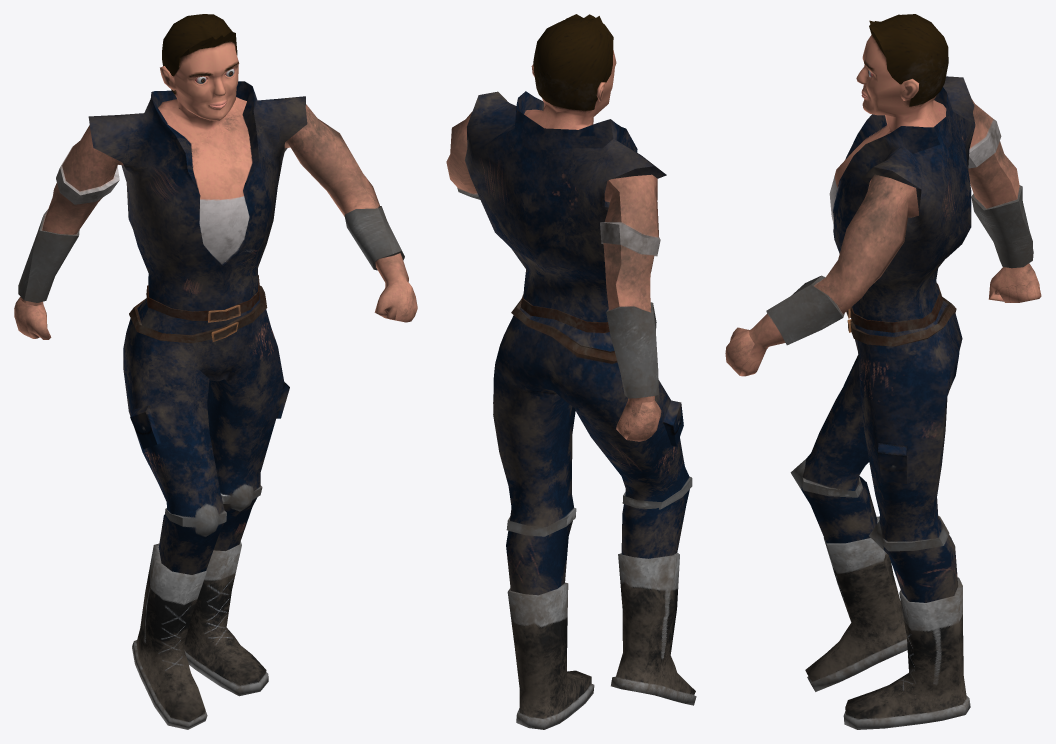
File: Anim_andar_jugador.0038.obj
The picture shows the model from 3 angles, left to right: view 1: azimuth 30°, elevation 25°; view 2: azimuth 150°, elevation 25°; view 3: azimuth 270°, elevation 25°; orthographic projection. The views are drawn at different scales.
Visible parts, largest first — view 1: Anim_andar_jugador; view 2: Anim_andar_jugador; view 3: Anim_andar_jugador.
Part boxes in pixels (x1,y1,x2,y2): Anim_andar_jugador: [14, 14, 417, 729]; Anim_andar_jugador: [446, 14, 696, 729]; Anim_andar_jugador: [725, 14, 1041, 729].
Size of the model in its own units: 4.31 by 9.76 by 4.01.
Materials: 2 (2 with a texture image).
